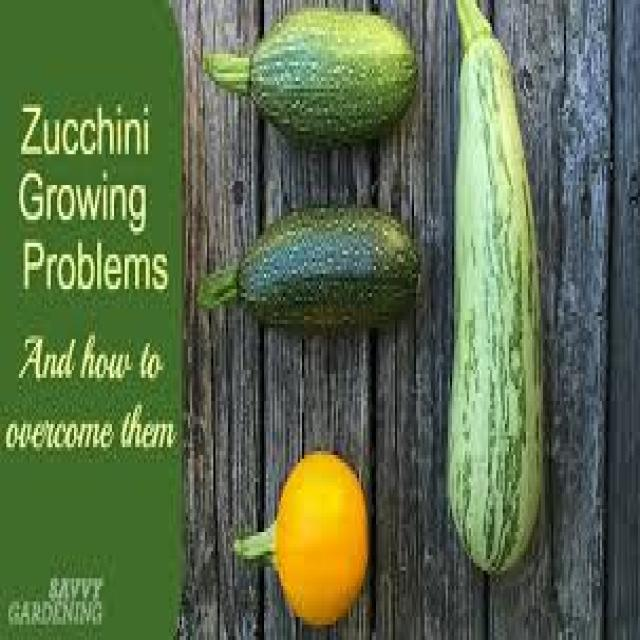Zucchini: (457, 26, 547, 576), (203, 204, 436, 333)
